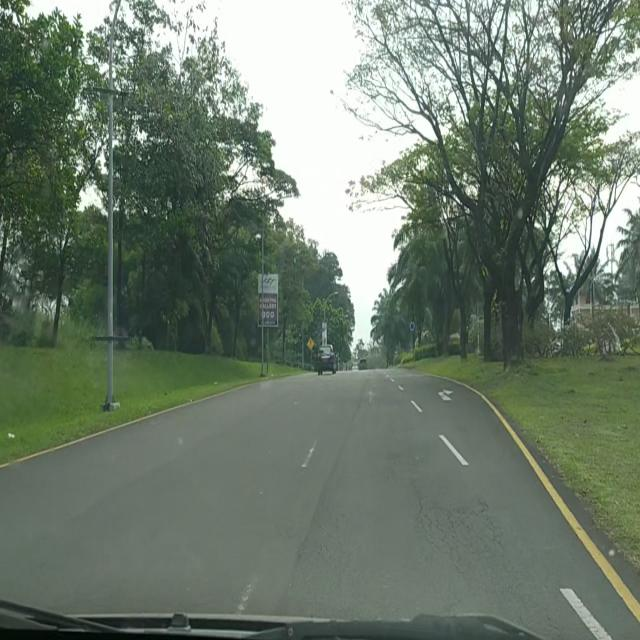Drain Hole: (400, 494, 508, 574)
